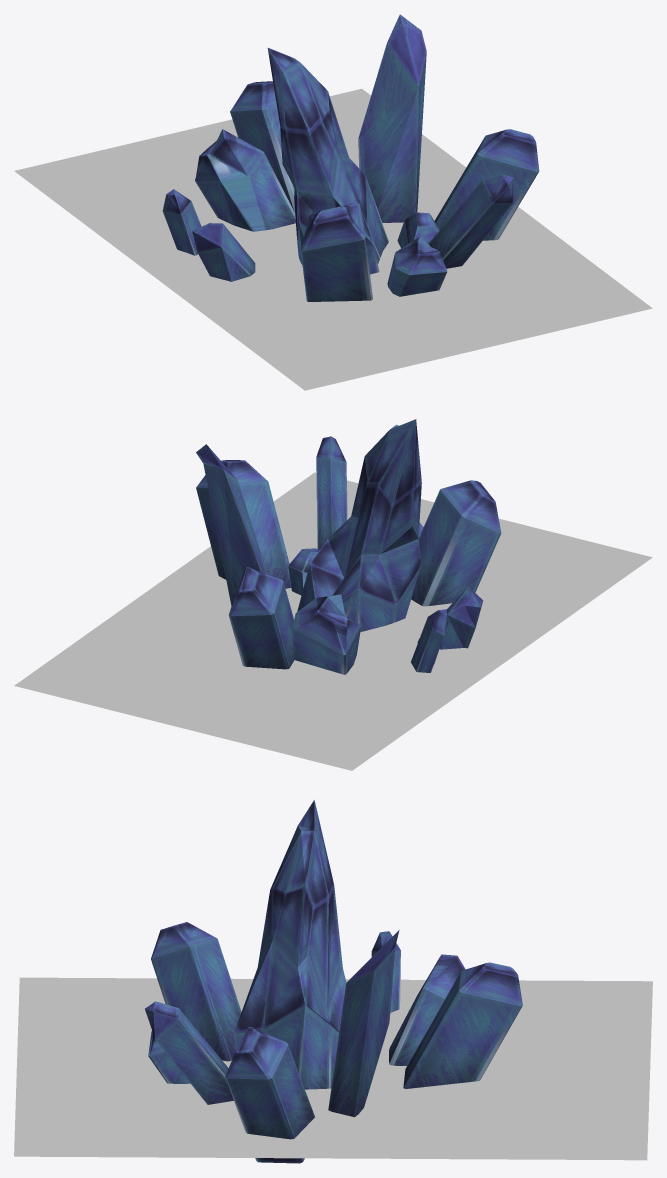
The model's file is crystalssmall02.fbx.
The picture shows the model from 3 angles, top to bottom: view 1: azimuth 30°, elevation 25°; view 2: azimuth 150°, elevation 25°; view 3: azimuth 270°, elevation 25°; orthographic projection. The views are drawn at different scales.
Visible parts, largest first — view 1: Geoset_0, Geoset_2, Geoset_1; view 2: Geoset_0, Geoset_2, Geoset_1; view 3: Geoset_0, Geoset_2, Geoset_1.
Part boxes in pixels (<box>): Geoset_0: <box>14,88,652,390</box>; Geoset_2: <box>162,48,539,301</box>; Geoset_1: <box>192,14,439,281</box>; Geoset_0: <box>14,472,652,770</box>; Geoset_2: <box>196,419,501,674</box>; Geoset_1: <box>196,444,483,649</box>; Geoset_0: <box>14,977,652,1160</box>; Geoset_2: <box>145,800,522,1163</box>; Geoset_1: <box>328,930,399,1117</box>.
Size of the model in its own units: 1.88 by 1.35 by 2.78.
Materials: 1 (1 with a texture image).
